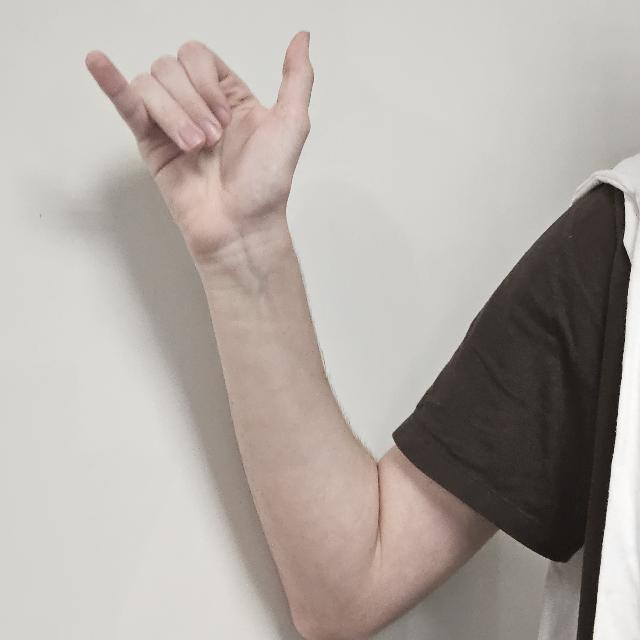Direita: (75, 31, 342, 227)
